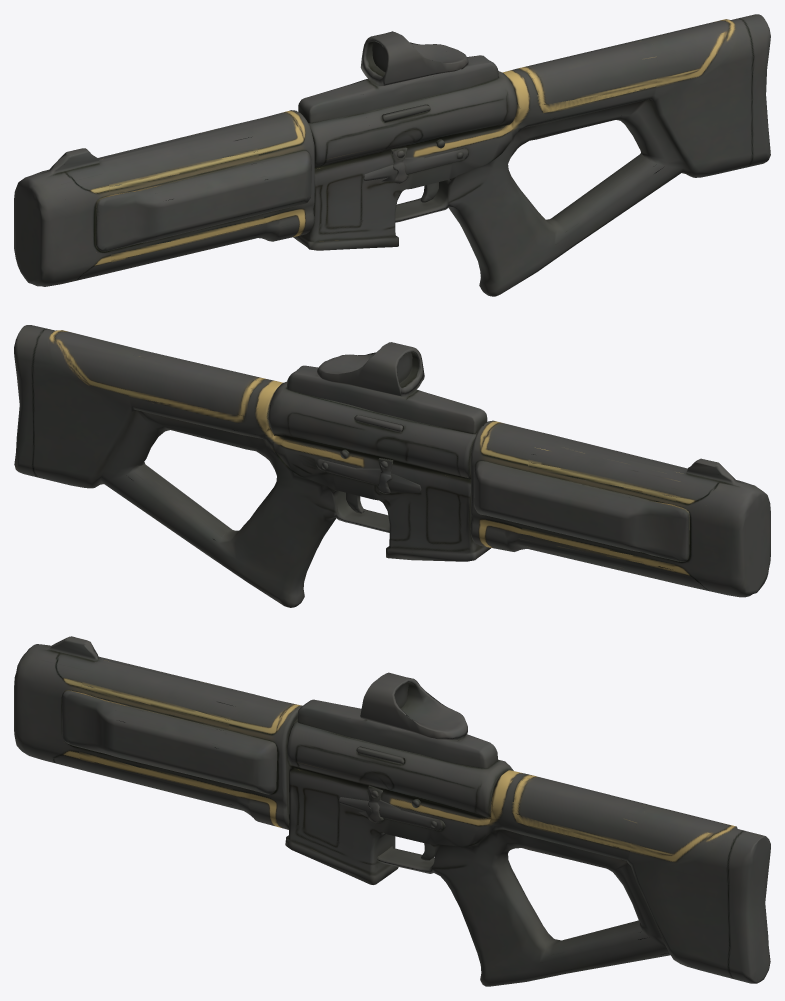
Rendered from rifle.glb.
3 views of the same model, one above another, from view 1: azimuth 30°, elevation 25°; view 2: azimuth 150°, elevation 25°; view 3: azimuth 330°, elevation 25° (orthographic).
Parts seen in each view (by area): view 1: geometry_0; view 2: geometry_0; view 3: geometry_0.
Part boxes in pixels (x1,y1,x2,y2): geometry_0: (14, 14, 770, 296); geometry_0: (14, 325, 770, 607); geometry_0: (14, 636, 770, 986).
Bounding box in the file's own units: 1 × 0.3662 × 0.1202.
Materials: 1 (1 with a texture image).
